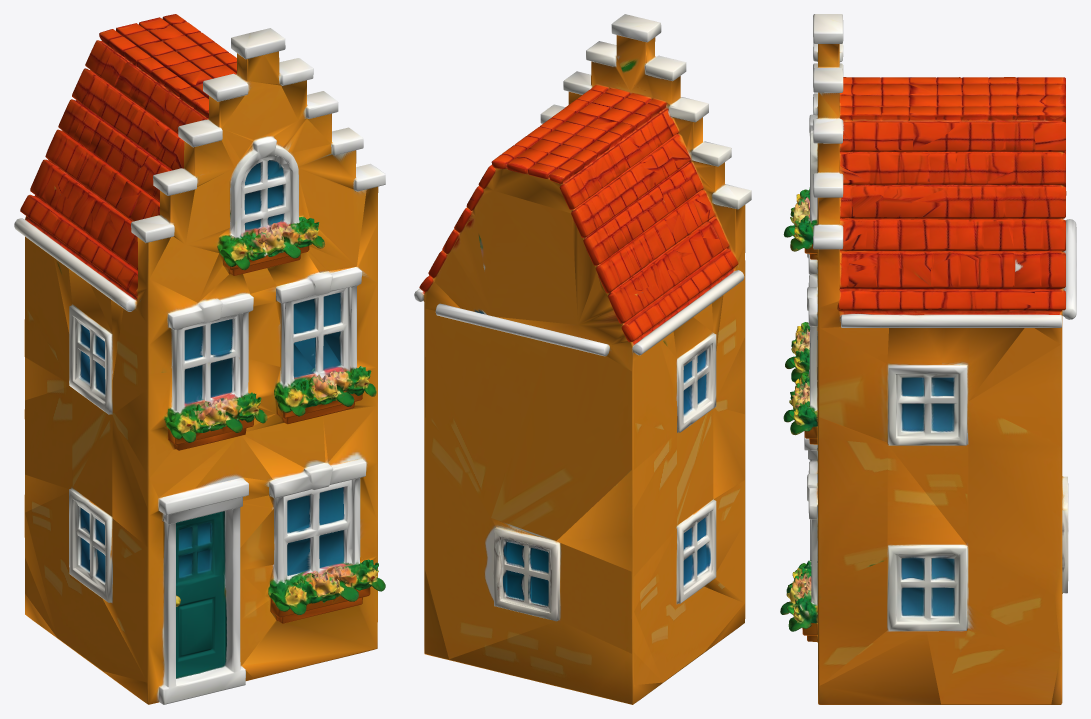
Rendered from immeuble_orange.glb.
3 renders of one model, left to right at view 1: azimuth 30°, elevation 25°; view 2: azimuth 150°, elevation 25°; view 3: azimuth 270°, elevation 25°, orthographic. The views are drawn at different scales.
Parts seen in each view (by area): view 1: Mesh_0; view 2: Mesh_0; view 3: Mesh_0.
Part boxes in pixels (left/top/right/bottom): Mesh_0: left=14, top=14, right=385, bottom=704; Mesh_0: left=414, top=14, right=751, bottom=704; Mesh_0: left=780, top=14, right=1076, bottom=704.
Size of the model in its own units: 0.7882 by 1.9 by 0.8132.
1 material, 1 textured.
